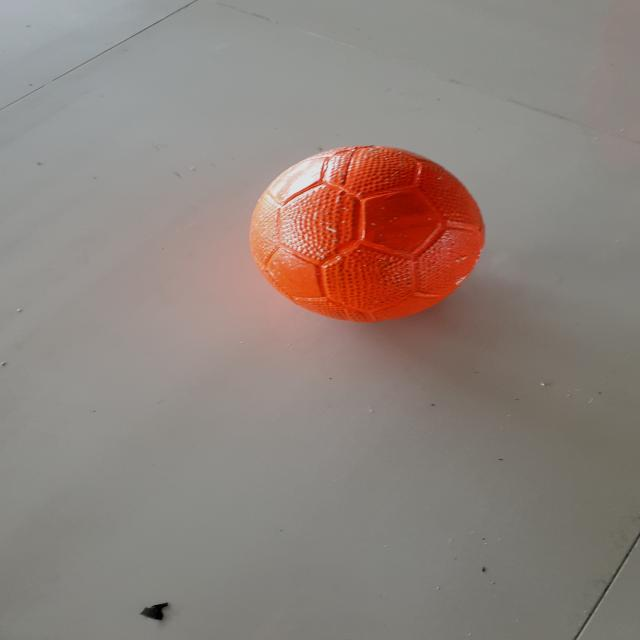bola: (241, 137, 494, 329)
